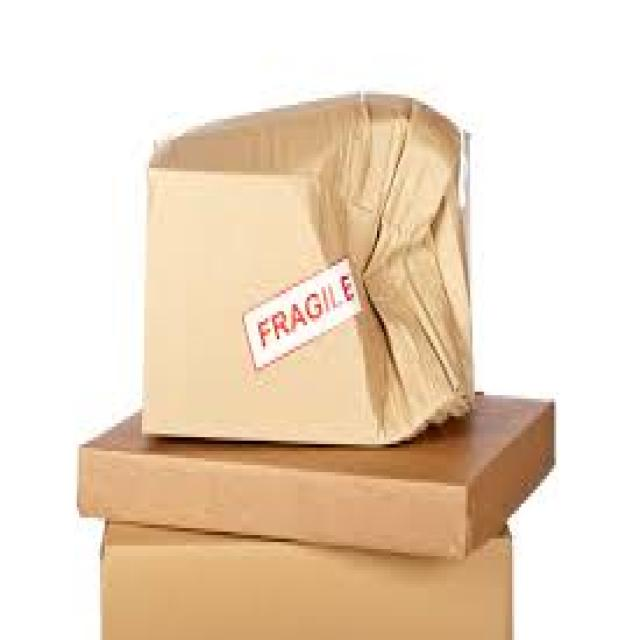Kardus kondisi bagus: (78, 367, 557, 565), (99, 449, 513, 640)
Kardus kondisi rusak: (141, 87, 480, 447)
